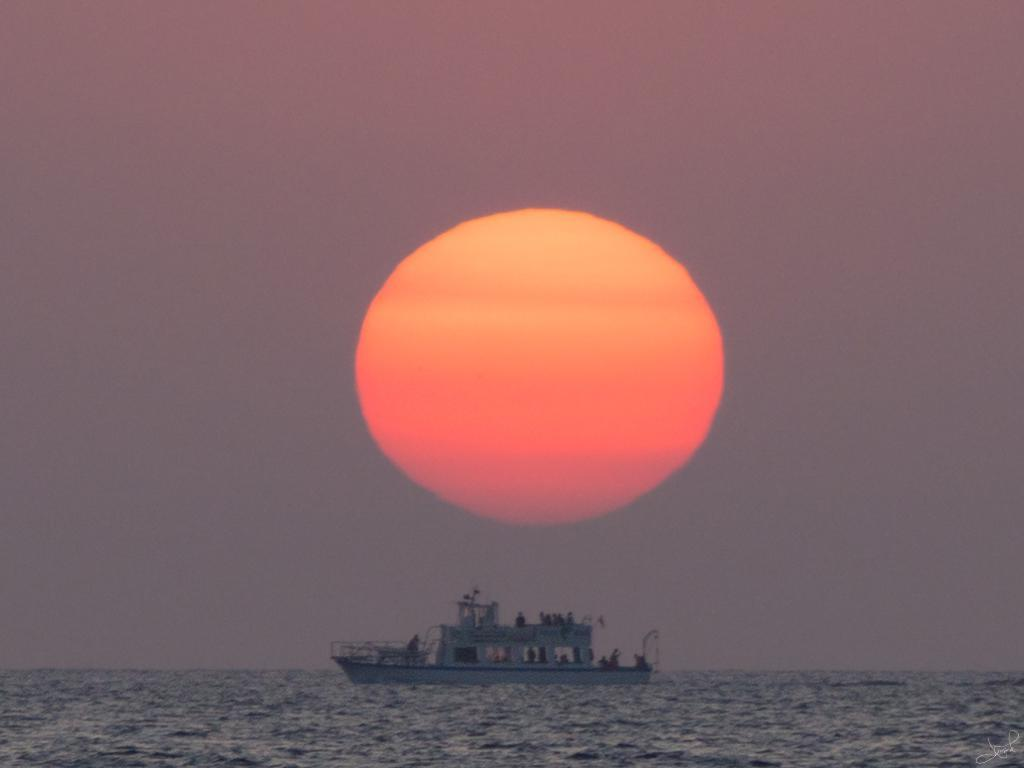PassengerShip: (319, 580, 673, 690)
